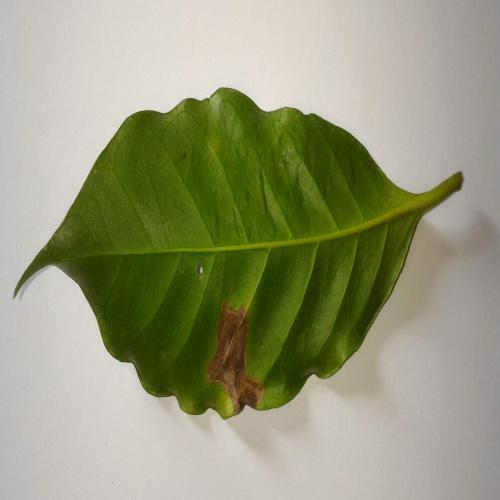leaf: (208, 302, 265, 415)
